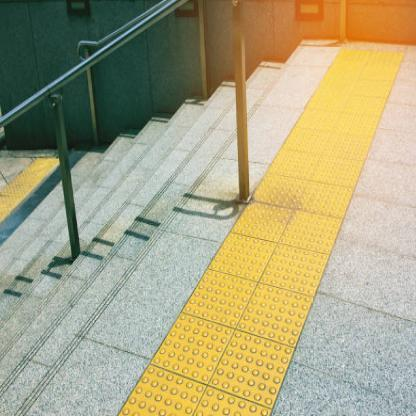podotacti: (105, 17, 416, 416)
